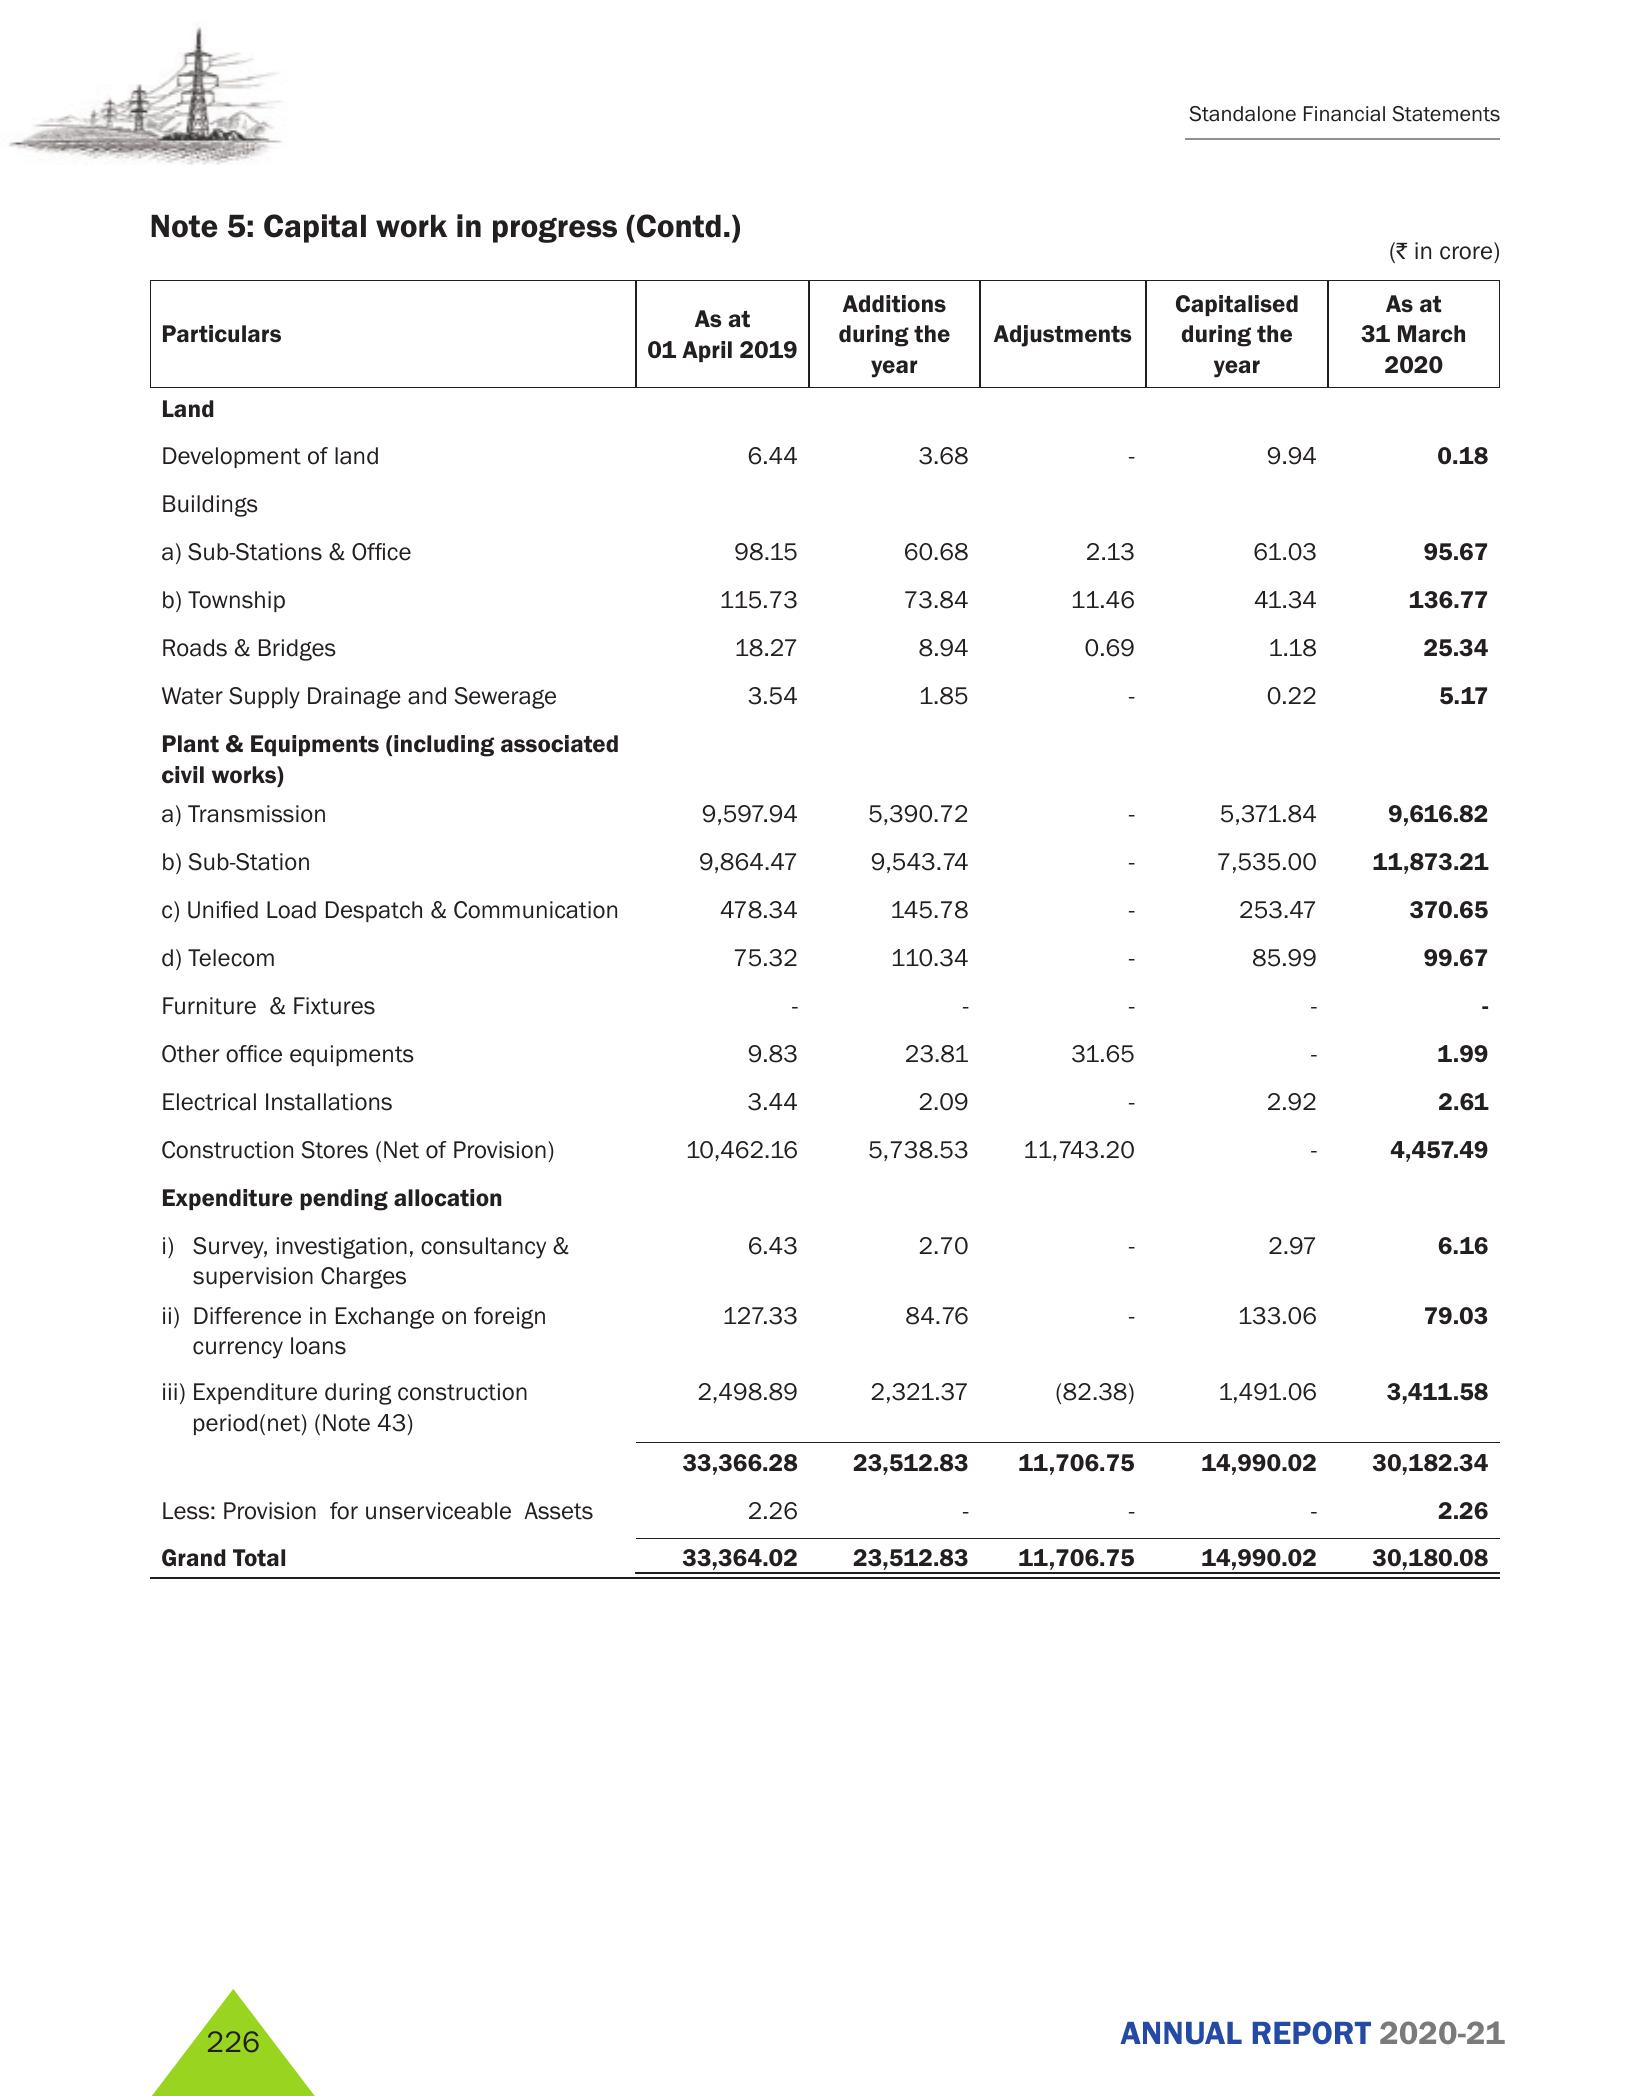Footer: (0, 1945, 1650, 2096)
Header: (0, 0, 1650, 168)
Table: (90, 248, 1507, 1592)
